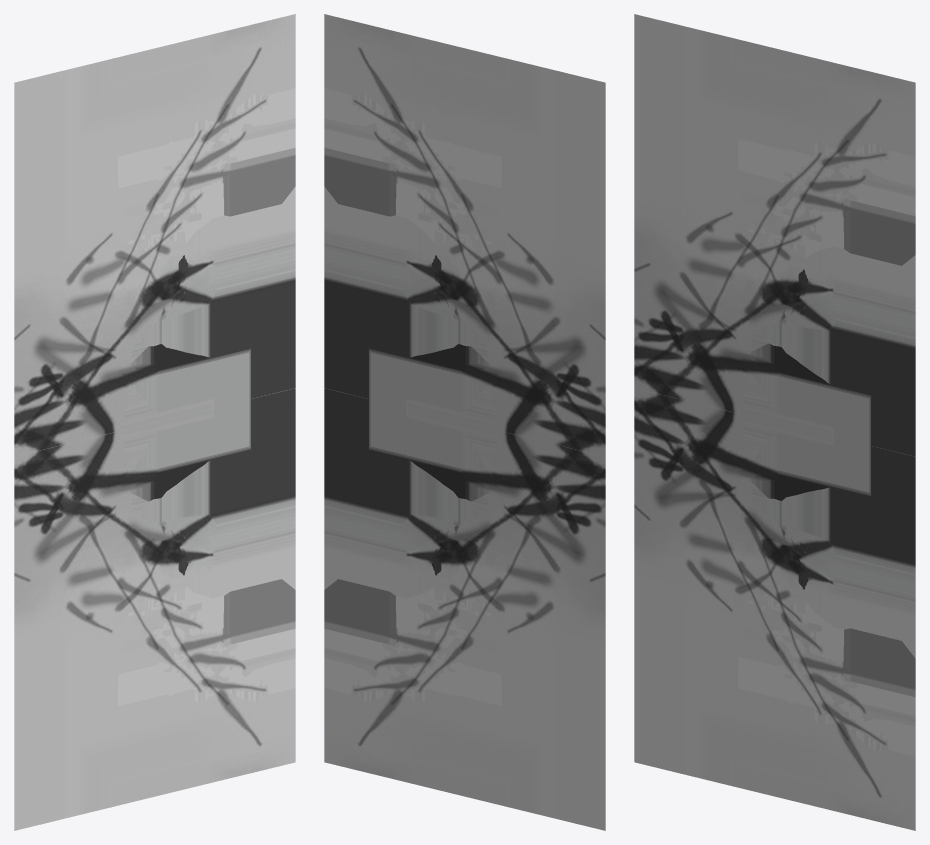
Rendered from PPX_REED4.fbx.
3 renders of one model, left to right at view 1: azimuth 30°, elevation 25°; view 2: azimuth 150°, elevation 25°; view 3: azimuth 330°, elevation 25°, orthographic.
Parts seen in each view (by area): view 1: 图层 4.png, 图层 4.png_2; view 2: 图层 4.png, 图层 4.png_2; view 3: 图层 4.png, 图层 4.png_2.
Boxes of the visible parts, left/top/right/bottom form: 图层 4.png: left=14, top=14, right=295, bottom=456; 图层 4.png_2: left=14, top=388, right=295, bottom=830; 图层 4.png: left=324, top=14, right=605, bottom=456; 图层 4.png_2: left=324, top=388, right=605, bottom=830; 图层 4.png: left=634, top=14, right=915, bottom=456; 图层 4.png_2: left=634, top=388, right=915, bottom=830.
Bounding box in the file's own units: 145 × 0 × 368.
1 material, 1 textured.
